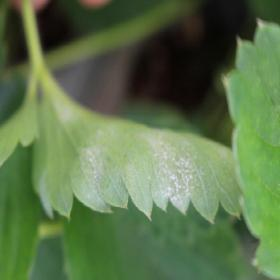Powdery Mildew Leaf: (30, 73, 242, 225)
